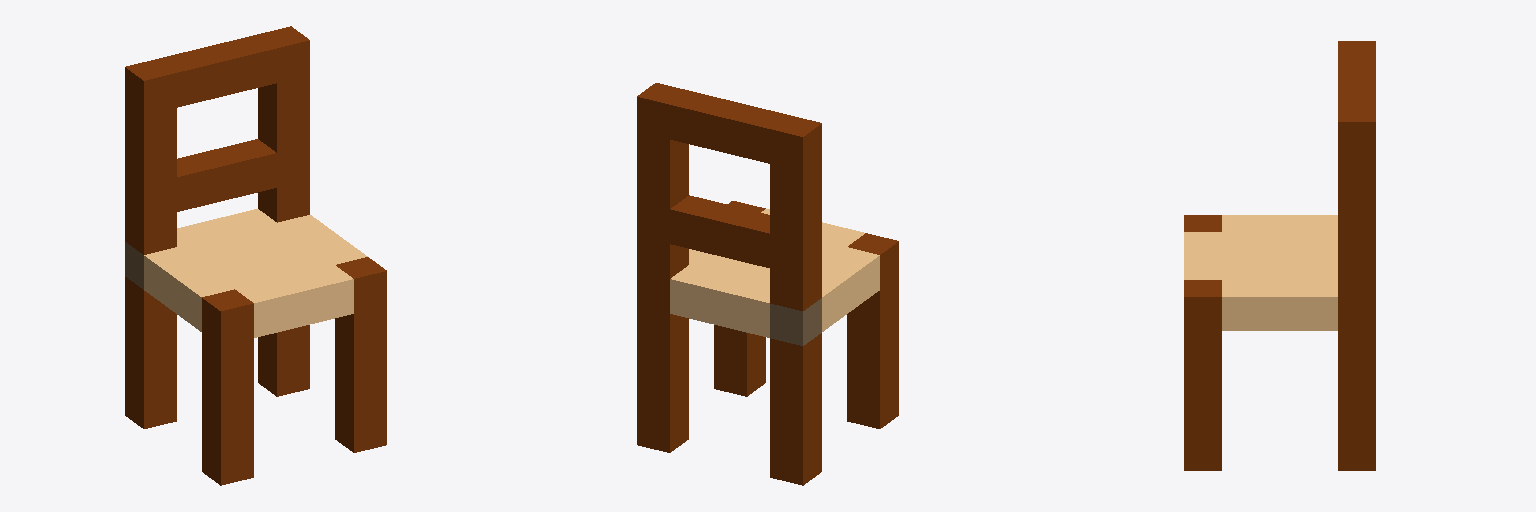
3 views of the same model, side by side, from view 1: azimuth 30°, elevation 25°; view 2: azimuth 150°, elevation 25°; view 3: azimuth 270°, elevation 25° (orthographic).
Parts seen in each view (by area): view 1: Chair2; view 2: Chair2; view 3: Chair2.
Boxes of the visible parts, box(x1,y1,x2,y2) form: Chair2: box(125, 26, 386, 485); Chair2: box(637, 83, 898, 485); Chair2: box(1184, 41, 1375, 470).
Size of the model in its own units: 5 by 10 by 5.
Materials: 1 (1 with a texture image).